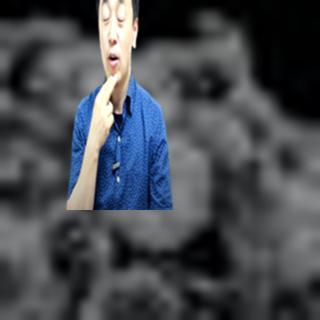DHAVE: (82, 72, 129, 151)
